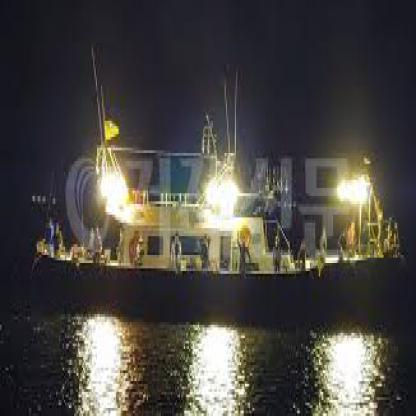fish-b: (23, 16, 415, 346)
